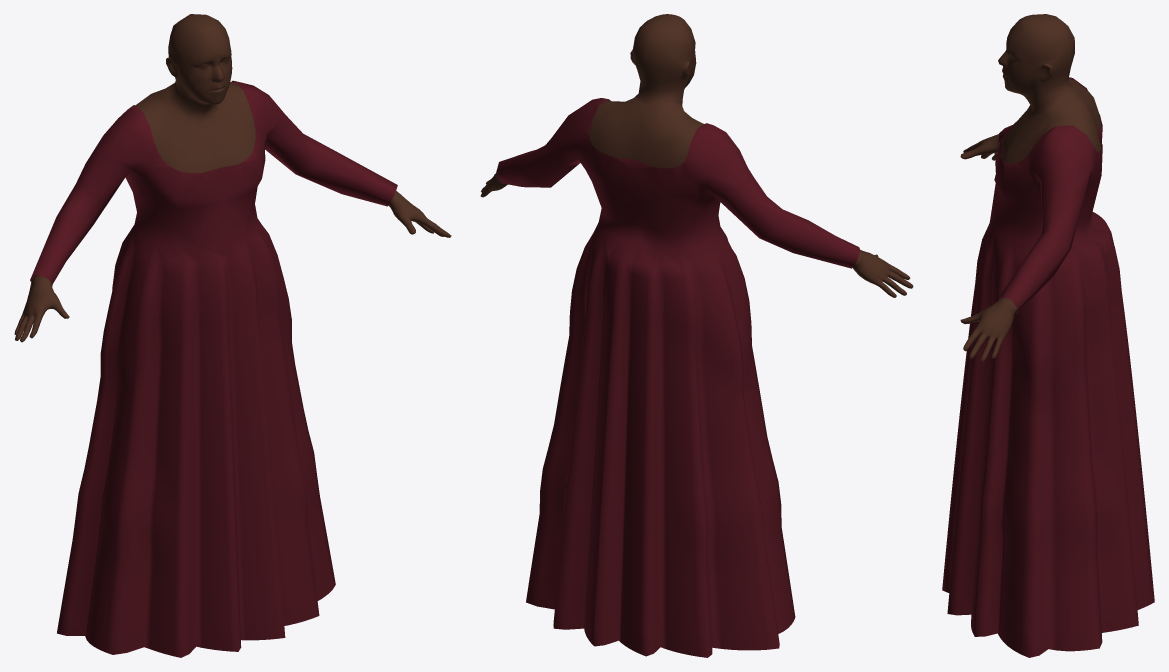
File: german1544.glb
3 views of the same model, side by side, from view 1: azimuth 30°, elevation 25°; view 2: azimuth 150°, elevation 25°; view 3: azimuth 270°, elevation 25° (orthographic). The views are drawn at different scales.
Visible parts, largest first — view 1: article-0/outer_fabric, article-0/bodice_fabric, Reference wearer; view 2: article-0/outer_fabric, article-0/bodice_fabric, Reference wearer; view 3: article-0/outer_fabric, article-0/bodice_fabric, Reference wearer.
Part boxes in pixels (left/top/right/bottom): article-0/outer_fabric: left=57, top=218, right=335, bottom=657; article-0/bodice_fabric: left=30, top=80, right=397, bottom=286; Reference wearer: left=14, top=14, right=451, bottom=342; article-0/outer_fabric: left=526, top=222, right=795, bottom=657; article-0/bodice_fabric: left=496, top=98, right=860, bottom=268; Reference wearer: left=480, top=14, right=913, bottom=297; article-0/outer_fabric: left=942, top=212, right=1154, bottom=657; article-0/bodice_fabric: left=990, top=77, right=1102, bottom=313; Reference wearer: left=960, top=14, right=1101, bottom=361.
Size of the model in its own units: 1.31 by 1.73 by 0.572.
Materials: 3 (1 with a texture image).
